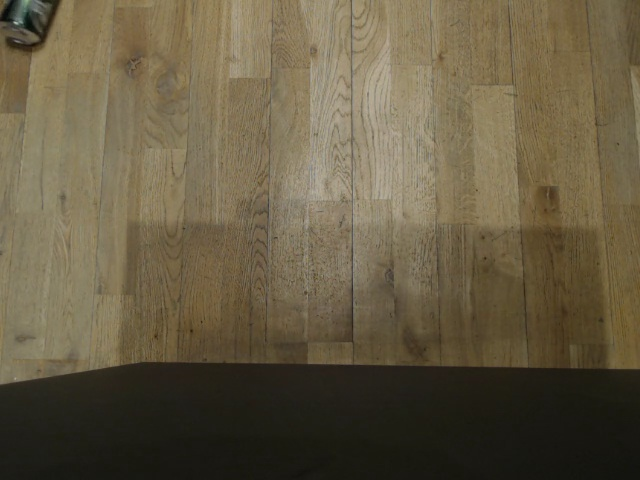beer: (0, 0, 55, 49)
